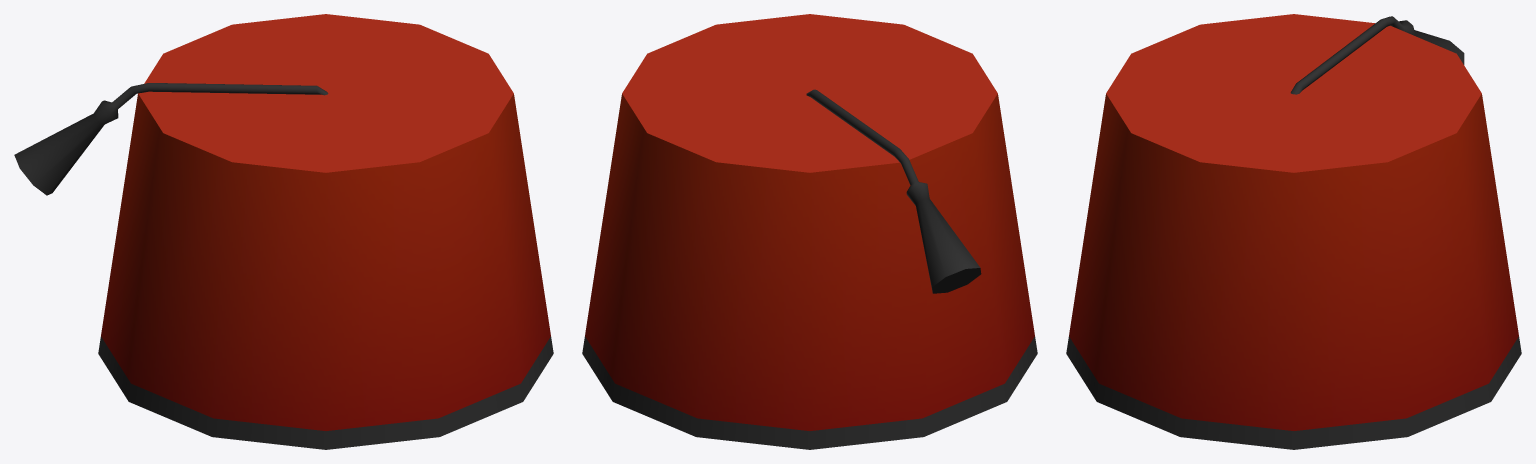
3 views of the same model, side by side, from view 1: azimuth 30°, elevation 25°; view 2: azimuth 150°, elevation 25°; view 3: azimuth 270°, elevation 25° (orthographic).
Visible parts, largest first — view 1: Fez_Fly; view 2: Fez_Fly; view 3: Fez_Fly.
Part boxes in pixels (<box>): Fez_Fly: <box>14,14,553,449</box>; Fez_Fly: <box>582,14,1037,449</box>; Fez_Fly: <box>1066,14,1521,449</box>.
Size of the model in its own units: 0.5 by 0.2964 by 0.4528.
